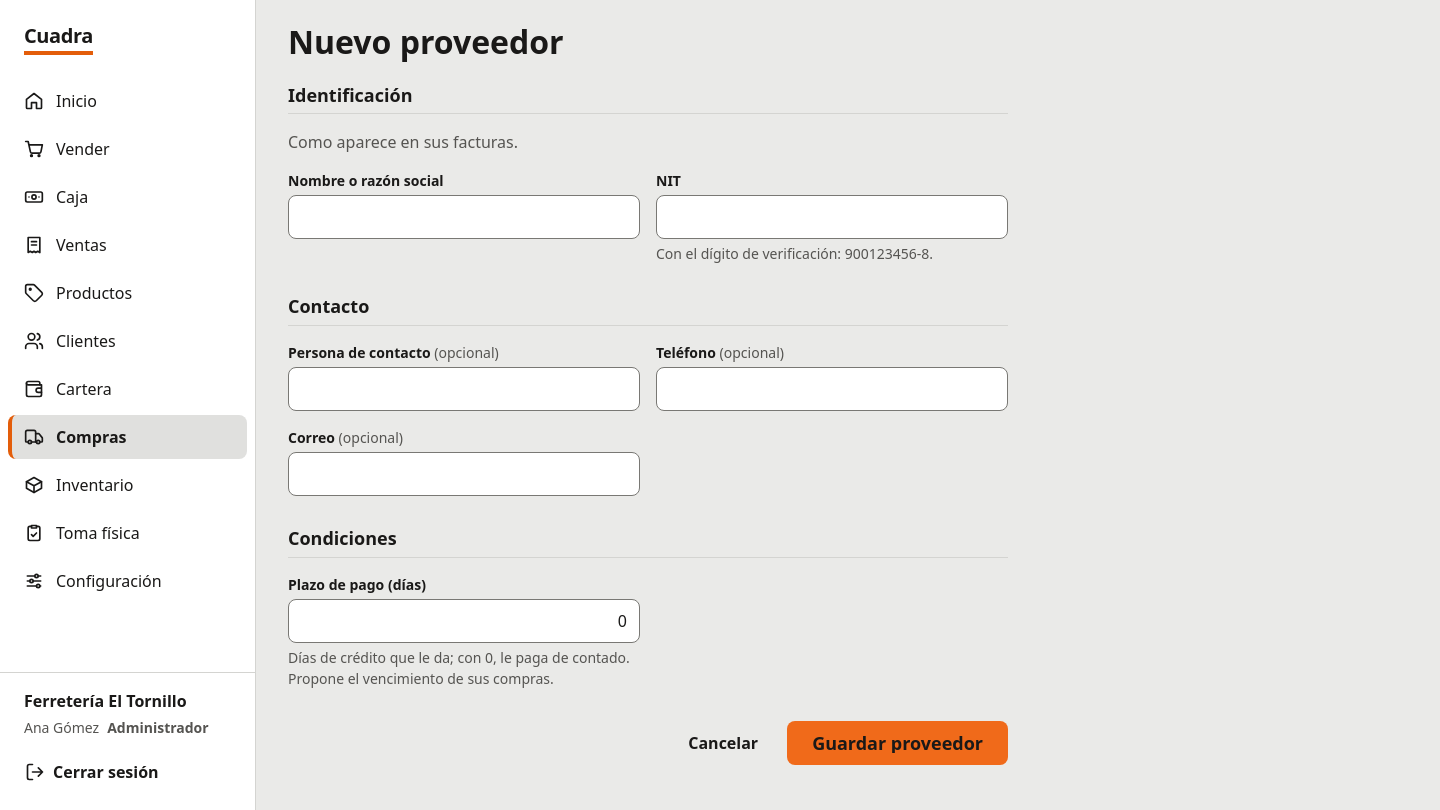
it: SupplierFormPage › crea un proveedor con su plazo y vuelve a la lista
Type "Ferretería Mayorista del Sur" into the field labelled "Nombre o razón social".
click(464, 218); type("Ferretería Mayorista del Sur")  # box 288,196 -> 640,240
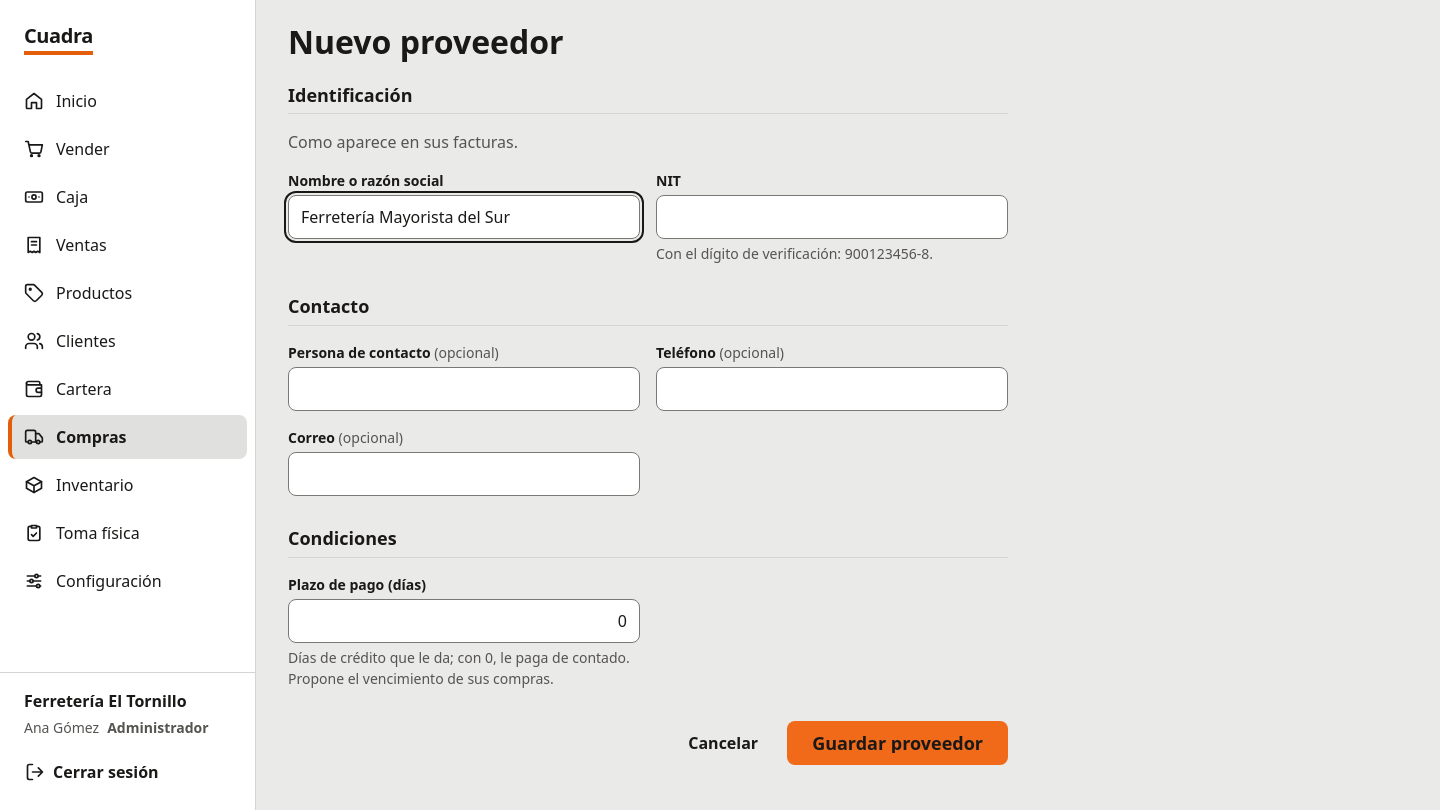
Type "901.555.444-2" into the field labelled "NIT".
click(832, 218); type("901.555.444-2")  # box 656,196 -> 1008,240
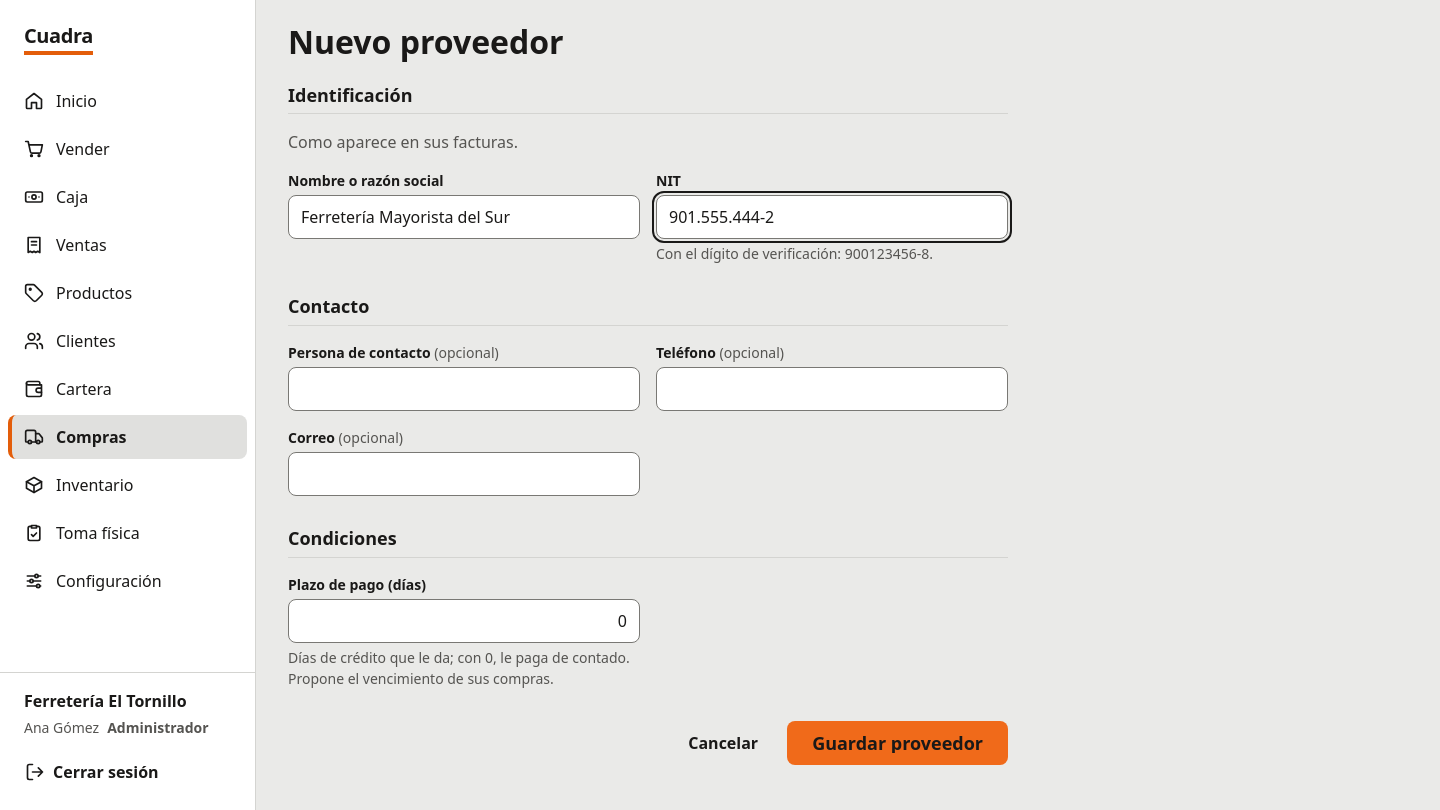
Replace the text in the field labelled "Plazo de pago (días)" with "15" at (464, 621), box 288,599 -> 640,643
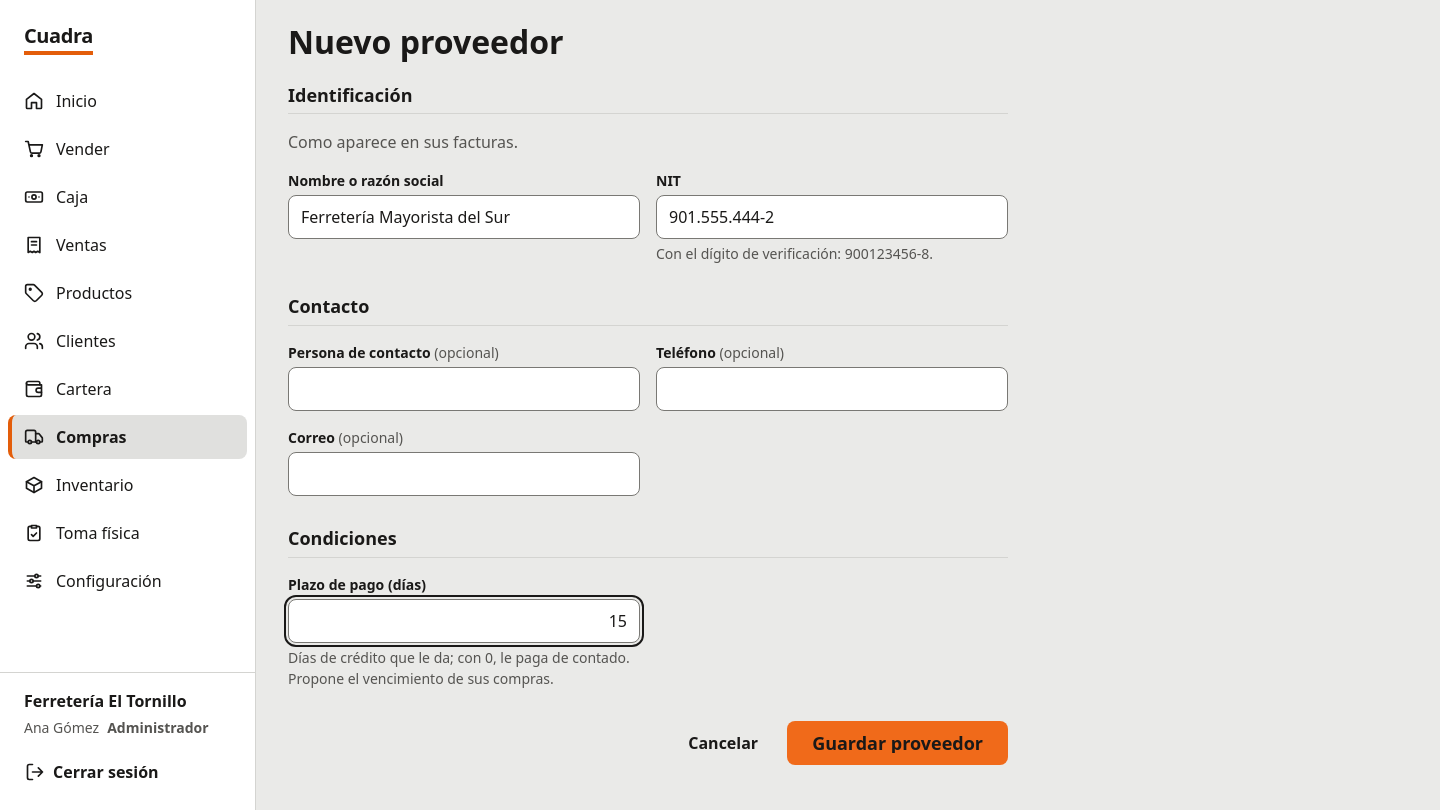
Type "ventas@mayoristasur.co" into the field labelled "Correo (opcional)".
click(464, 474); type("ventas@mayoristasur.co")  # box 288,452 -> 640,496
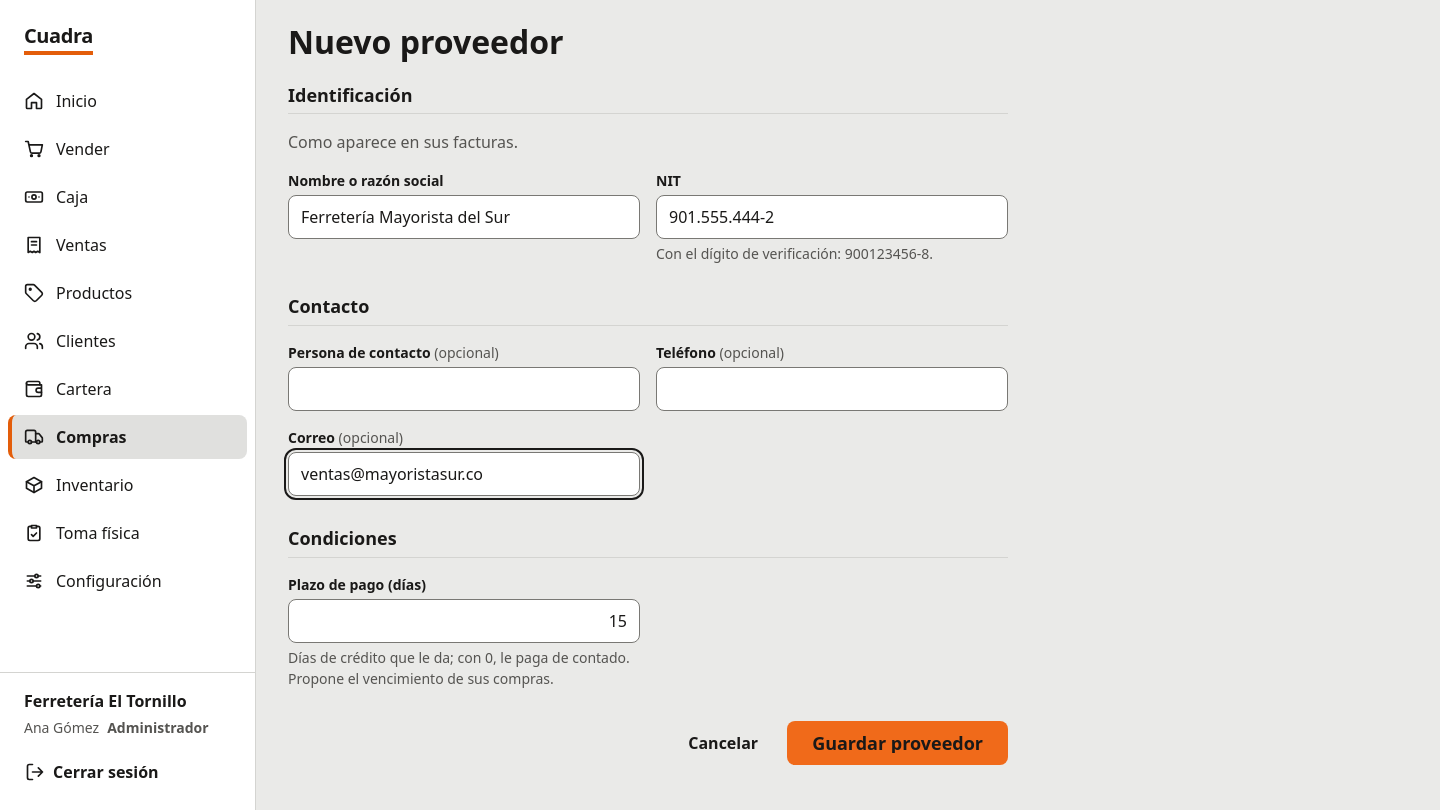
Click the button "Guardar proveedor".
click(898, 743)  # box 787,721 -> 1008,765
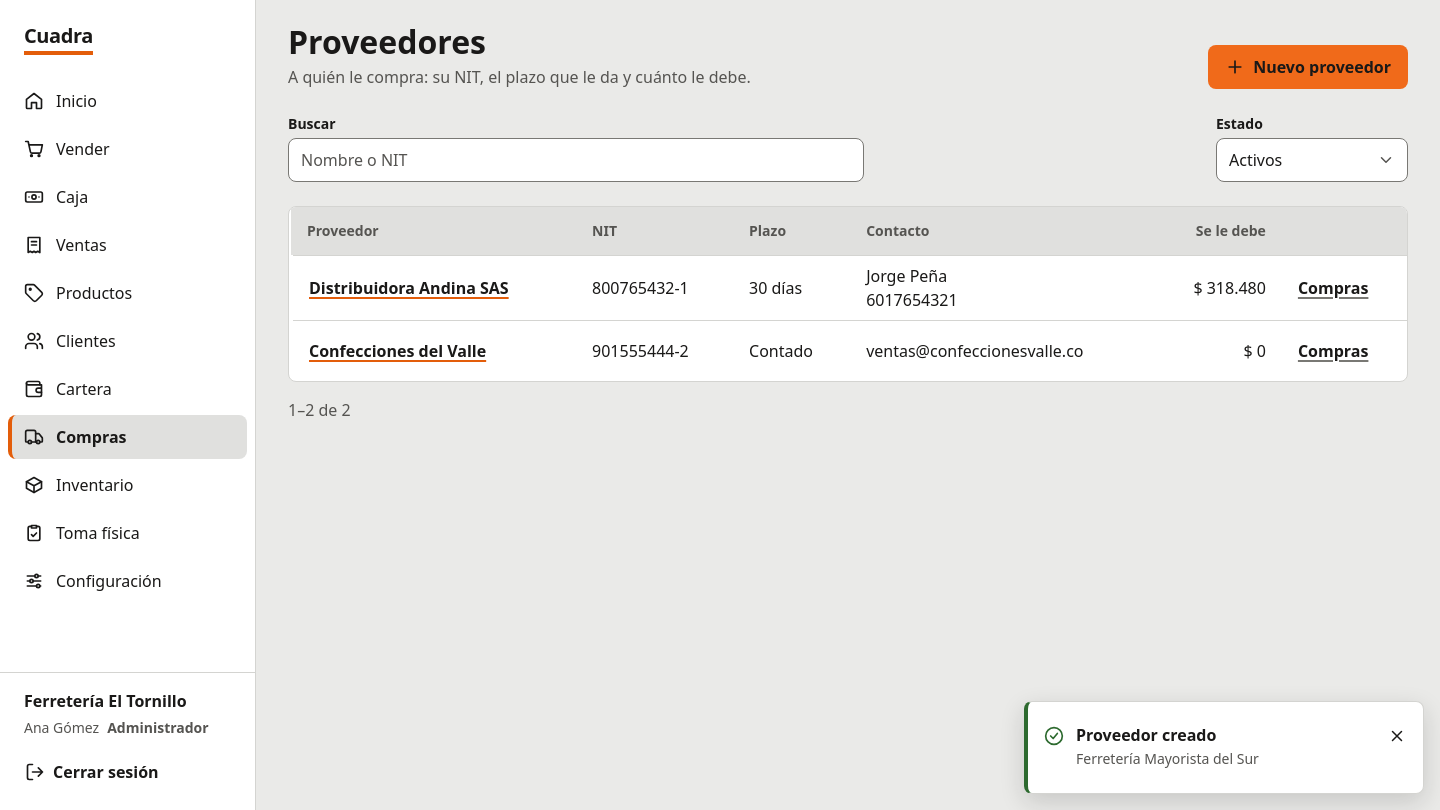
Expected: the heading "Proveedores" is shown, 288,20 -> 486,63
